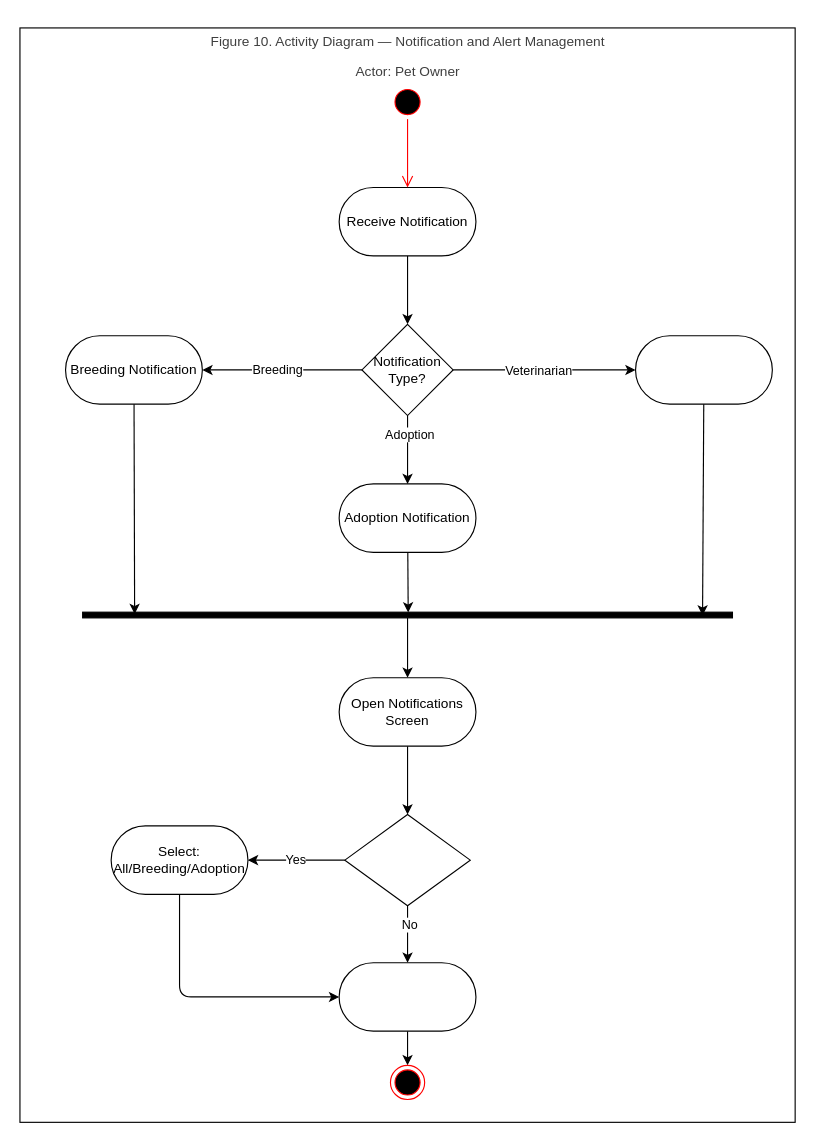
This 815x1142 diagram has some shape labels left out. Each missing label, with the box of its shape:
Filter Notifications?: (344, 813, 470, 906)
Filtered Notifications Displayed: (338, 962, 476, 1031)
Vet Notification: (634, 335, 772, 404)
